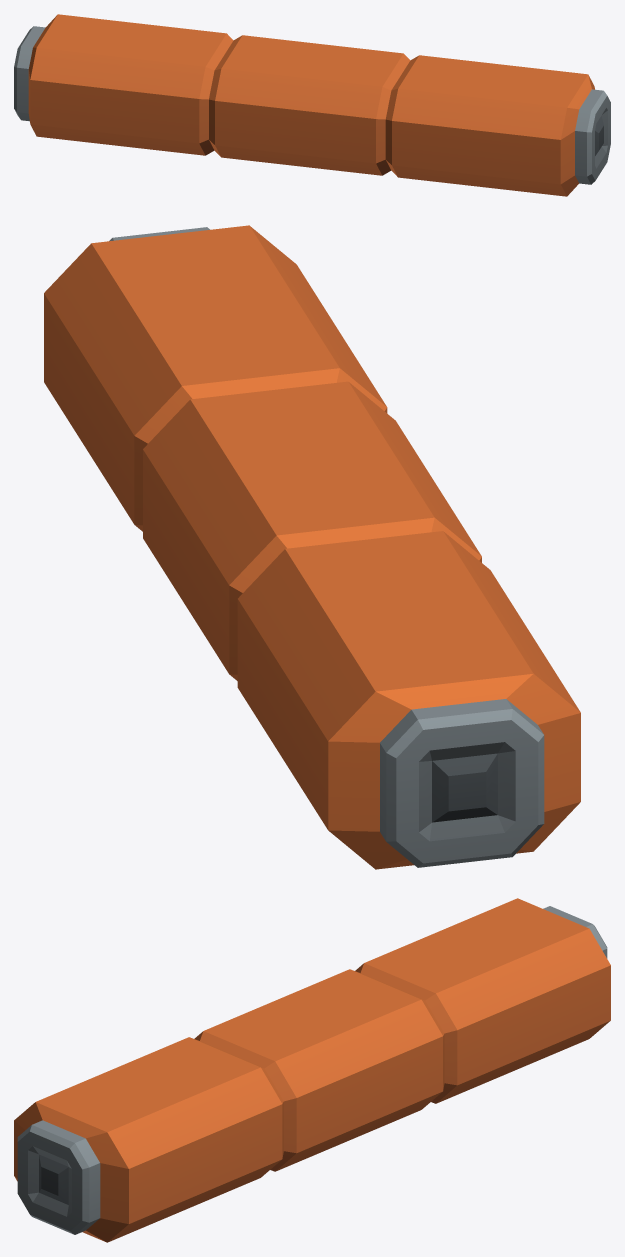
Rendered from kaykit_tunnel_diagonal_long_b_v01.glb.
3 views of the same model, one above another, from view 1: azimuth 30°, elevation 25°; view 2: azimuth 150°, elevation 25°; view 3: azimuth 270°, elevation 25° (orthographic). The views are drawn at different scales.
Visible parts, largest first — view 1: tunnel_diagonal_long_B; view 2: tunnel_diagonal_long_B; view 3: tunnel_diagonal_long_B.
Part boxes in pixels (left/top/right/bottom): tunnel_diagonal_long_B: left=14, top=14, right=610, bottom=196; tunnel_diagonal_long_B: left=44, top=225, right=580, bottom=869; tunnel_diagonal_long_B: left=14, top=898, right=610, bottom=1242.
Bounding box in the file's own units: 2.94 × 0.6 × 2.94.
1 material, 1 textured.
